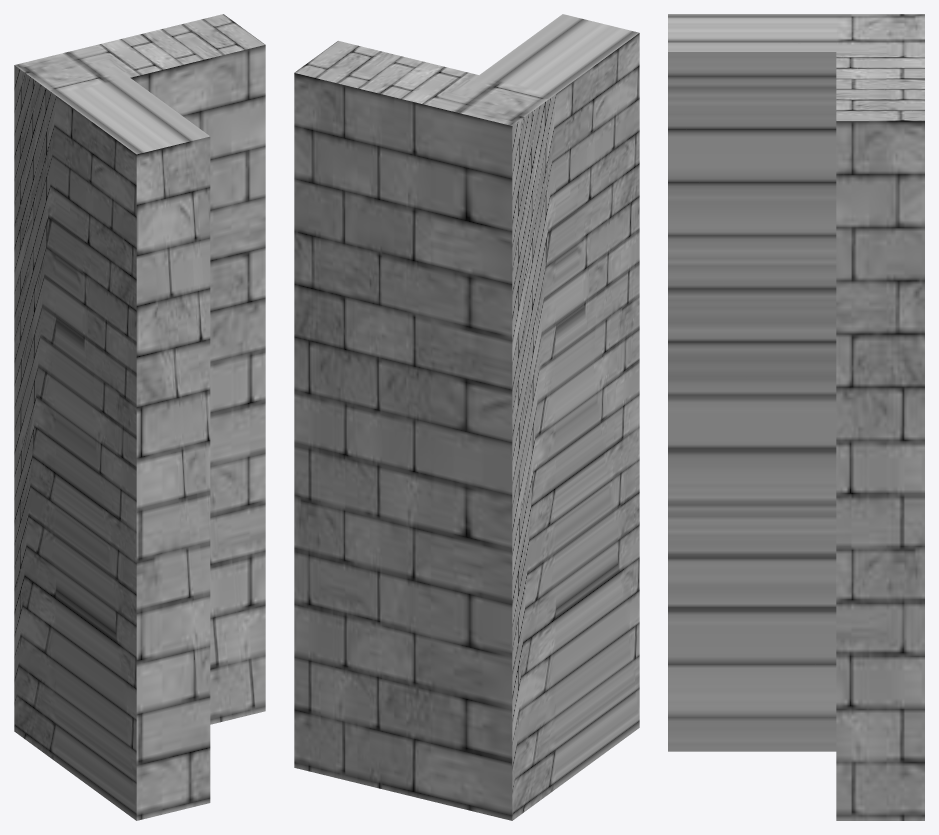
The model's file is esquinero con tex.fbx.
3 renders of one model, left to right at view 1: azimuth 30°, elevation 25°; view 2: azimuth 150°, elevation 25°; view 3: azimuth 270°, elevation 25°, orthographic. The views are drawn at different scales.
Visible parts, largest first — view 1: esquinero; view 2: esquinero; view 3: esquinero.
Part boxes in pixels (left/top/right/bottom): esquinero: left=14, top=14, right=265, bottom=820; esquinero: left=294, top=14, right=639, bottom=820; esquinero: left=668, top=14, right=924, bottom=820.
Size of the model in its own units: 98.55 by 300 by 99.74.
